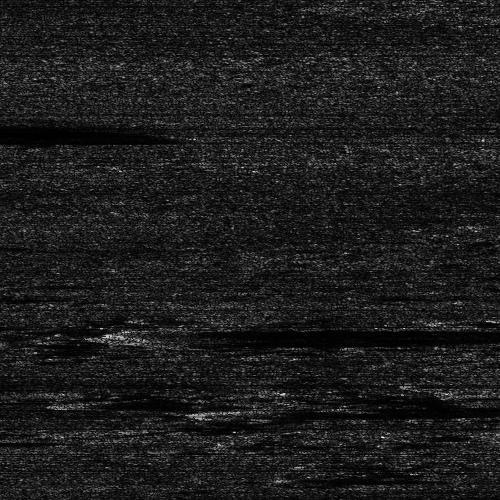object: (54, 321, 159, 354), (174, 401, 289, 422), (47, 397, 100, 408), (330, 404, 393, 409), (264, 475, 317, 480)
shadow: (107, 321, 434, 354), (231, 401, 500, 422), (74, 397, 215, 408), (0, 124, 73, 145), (291, 475, 445, 480), (362, 404, 500, 409), (0, 438, 24, 443)
